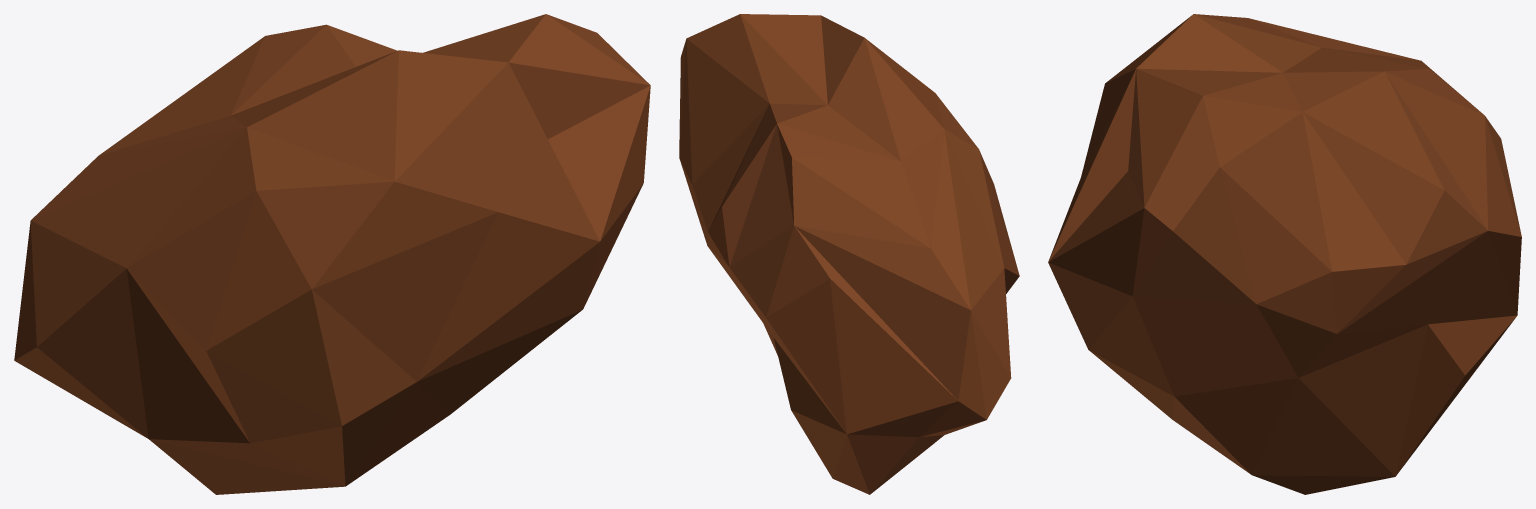
File: Asteroide12.fbx
The picture shows the model from 3 angles, left to right: view 1: azimuth 30°, elevation 25°; view 2: azimuth 150°, elevation 25°; view 3: azimuth 270°, elevation 25°; orthographic projection. The views are drawn at different scales.
Parts seen in each view (by area): view 1: Asteroide12; view 2: Asteroide12; view 3: Asteroide12.
Boxes of the visible parts, left/top/right/bottom form: Asteroide12: left=14, top=14, right=650, bottom=494; Asteroide12: left=679, top=14, right=1019, bottom=494; Asteroide12: left=1048, top=14, right=1521, bottom=494.
Size of the model in its own units: 1.37 by 1.24 by 1.04.
